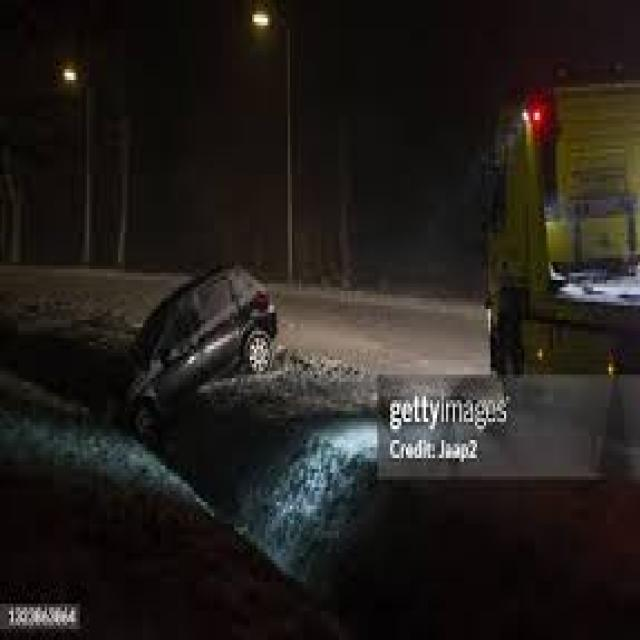Accident: (120, 262, 283, 442)
